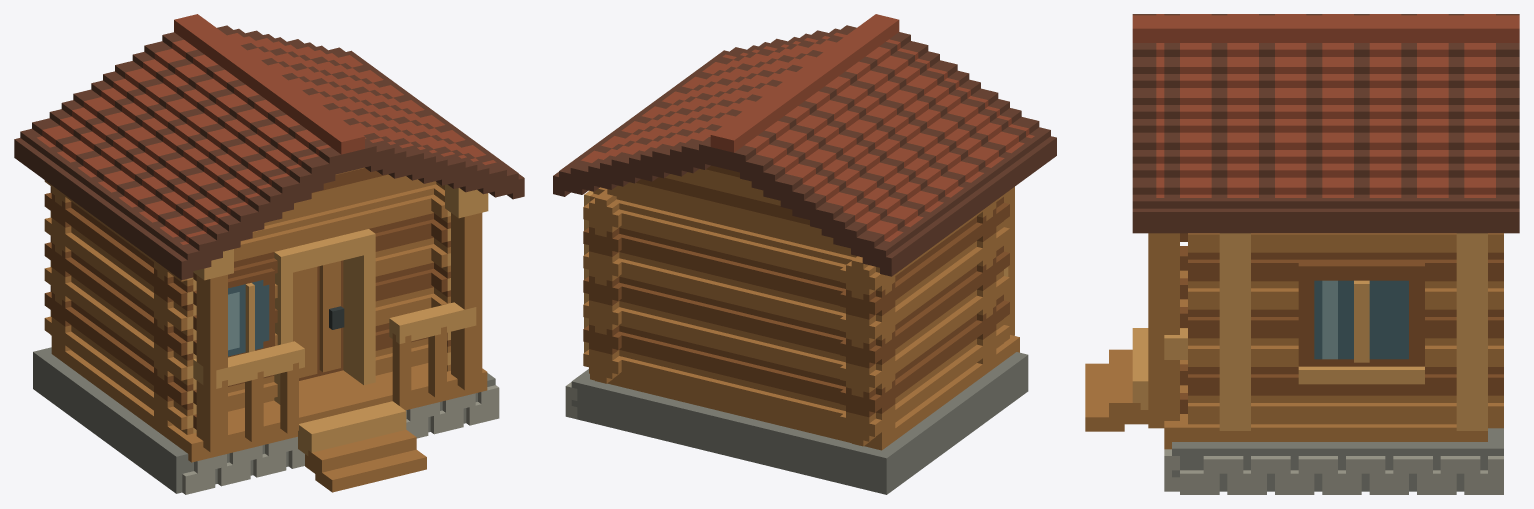
The model's file is log_cabin.glb.
The picture shows the model from 3 angles, left to right: view 1: azimuth 30°, elevation 25°; view 2: azimuth 150°, elevation 25°; view 3: azimuth 270°, elevation 25°; orthographic projection. The views are drawn at different scales.
Visible parts, largest first — view 1: log_cabin; view 2: log_cabin; view 3: log_cabin.
Part boxes in pixels (bbox=[...]): log_cabin: bbox=[14, 14, 524, 494]; log_cabin: bbox=[553, 14, 1056, 494]; log_cabin: bbox=[1085, 14, 1519, 494].
Size of the model in its own units: 5.8 by 5.3 by 5.5.
